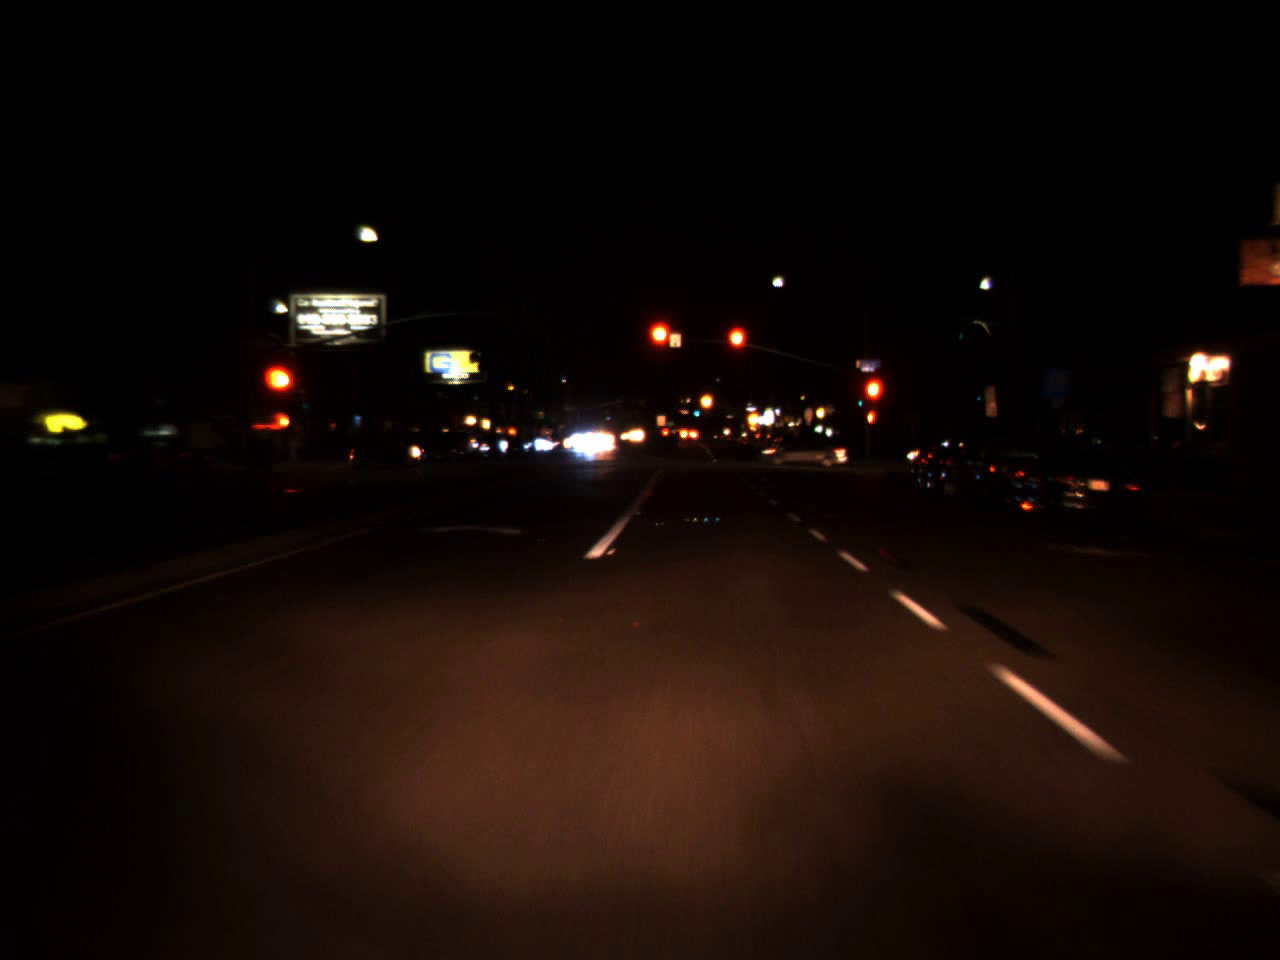go: (693, 404, 700, 416)
stop: (259, 359, 299, 426), (644, 317, 677, 376), (860, 375, 887, 429), (724, 323, 749, 377)
warning: (698, 384, 714, 416), (745, 406, 760, 431)
